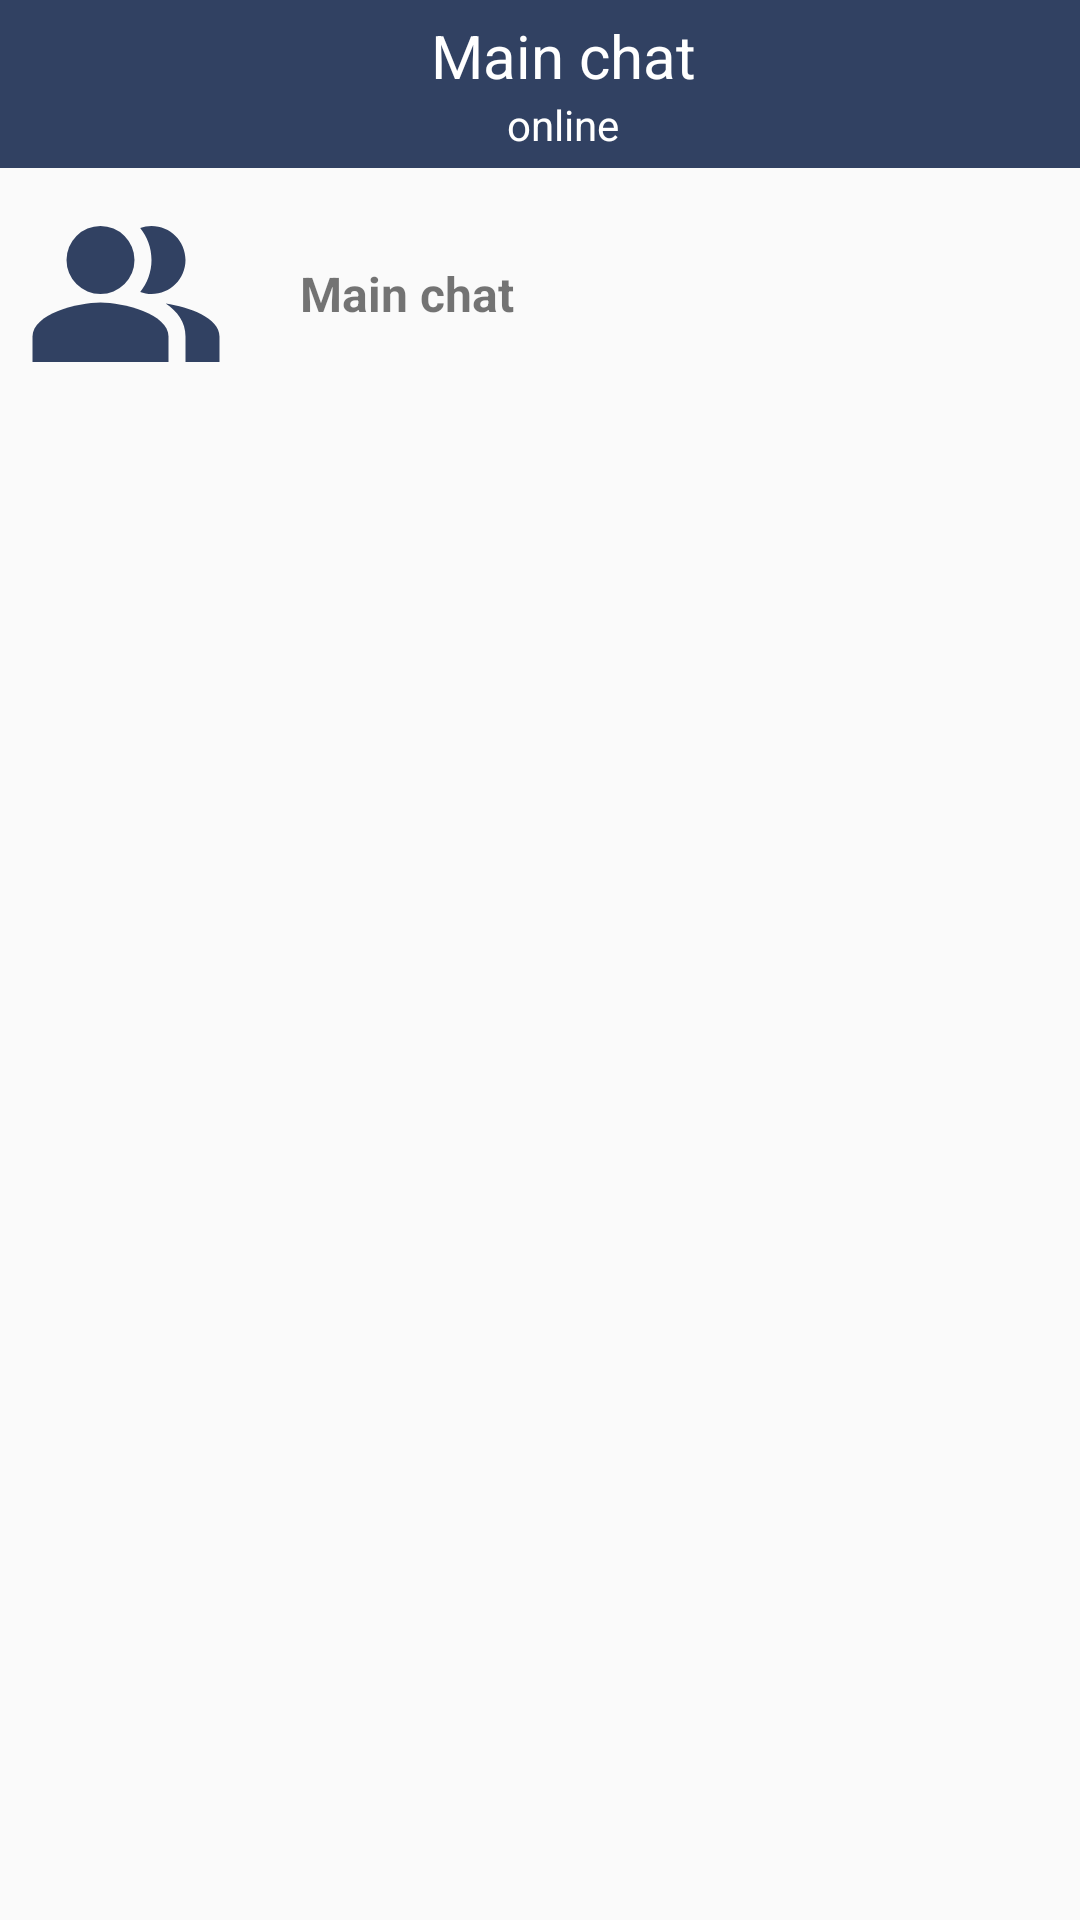

Screen size 1080px×1920px. Icon name, then its center in pixels as (x,y):
people: (126,294)
